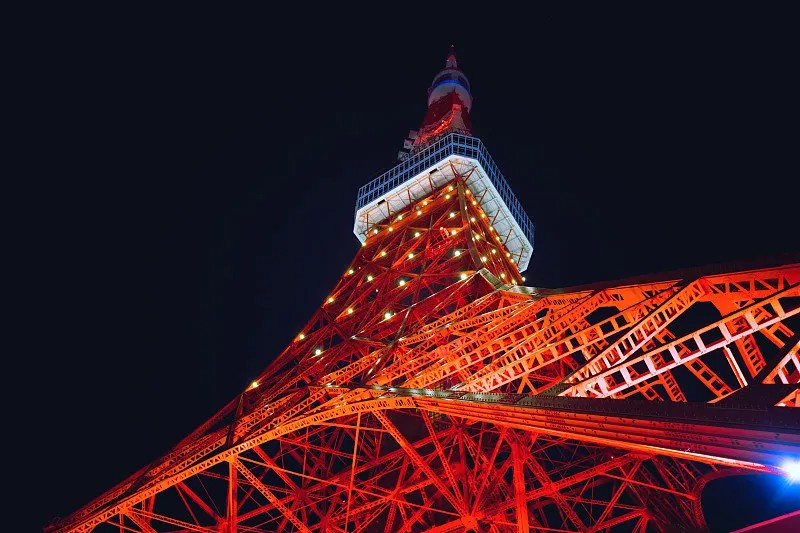Tokyo: (1, 37, 800, 533)
